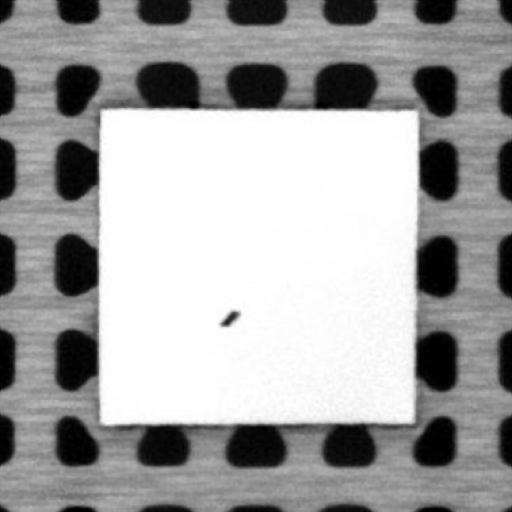DIE_INK: (217, 307, 241, 327)
